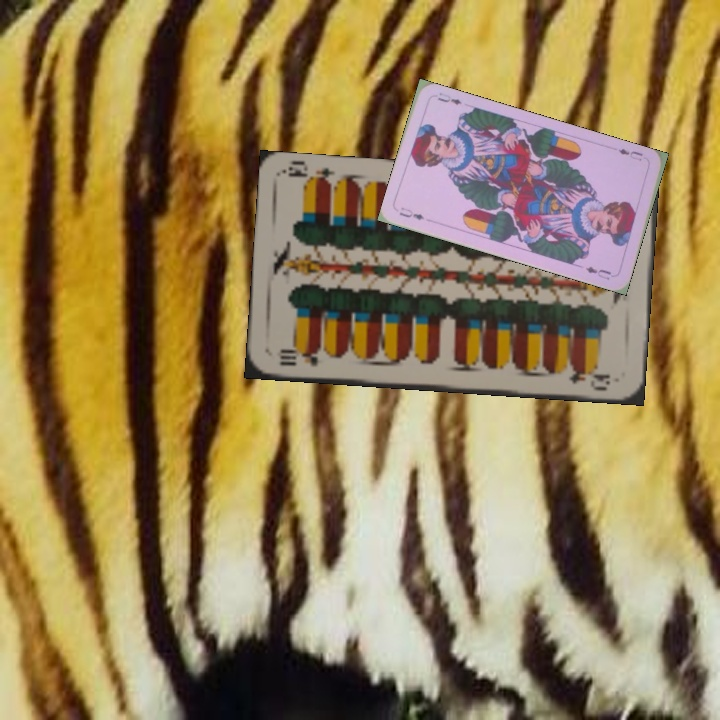E10: (276, 345, 330, 369)
EU: (614, 144, 650, 164), (395, 203, 427, 223)
